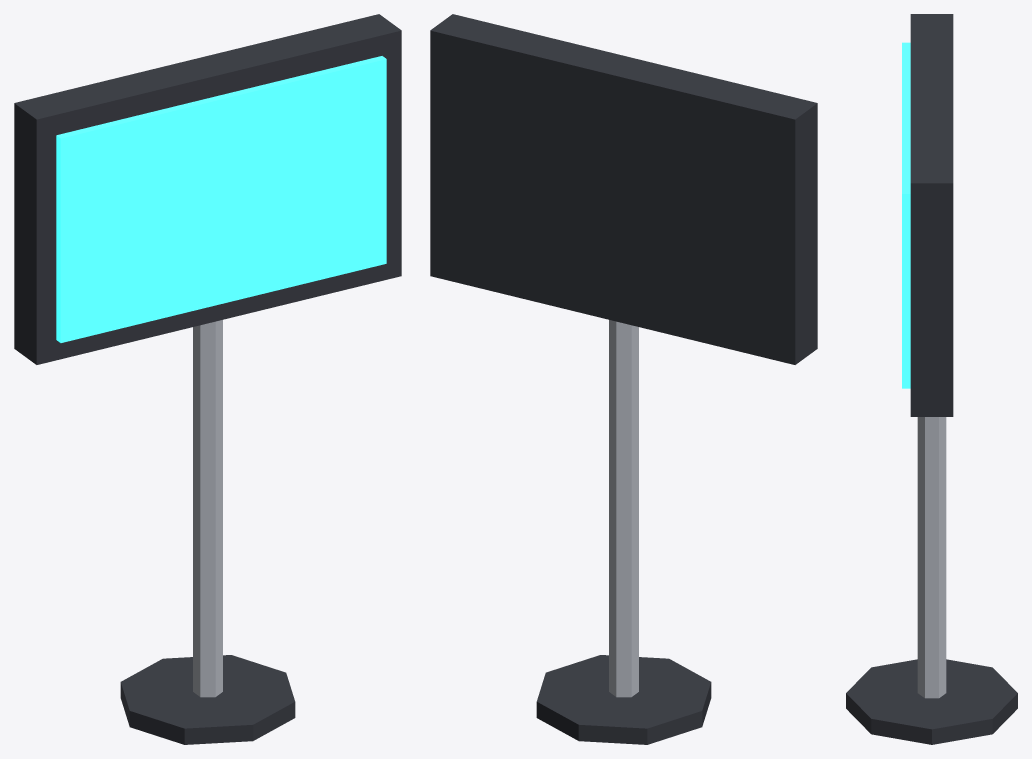
The model's file is score_screen.fbx.
3 views of the same model, side by side, from view 1: azimuth 30°, elevation 25°; view 2: azimuth 150°, elevation 25°; view 3: azimuth 270°, elevation 25° (orthographic). The views are drawn at different scales.
Parts seen in each view (by area): view 1: score_screen; view 2: score_screen; view 3: score_screen.
Part boxes in pixels (<box>): score_screen: <box>14,14,401,744</box>; score_screen: <box>430,14,817,744</box>; score_screen: <box>846,14,1017,744</box>.
Size of the model in its own units: 1.4 by 2.35 by 0.6.
